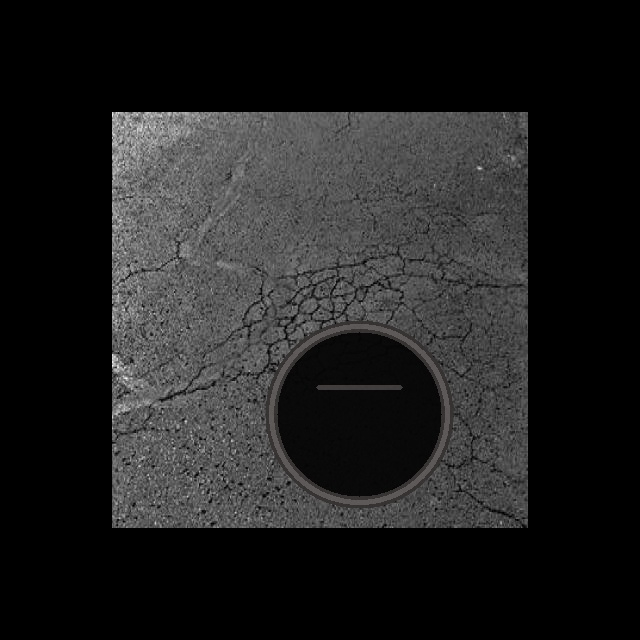open_manhole: (262, 317, 456, 511)
